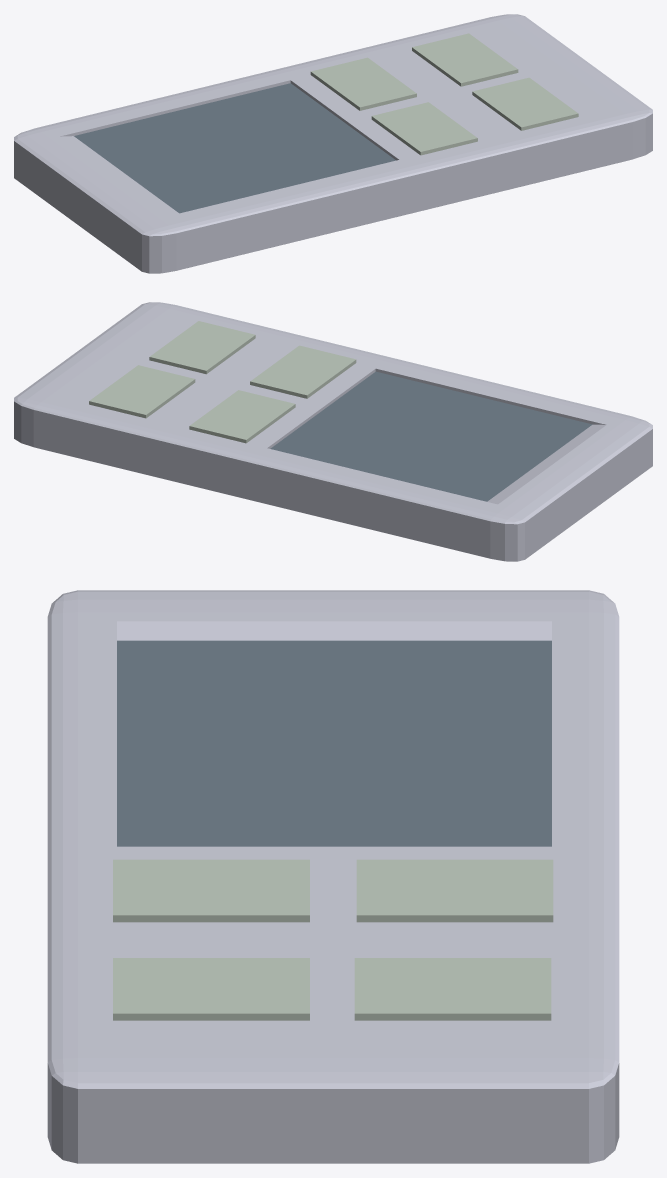
File: Rimocon.fbx
3 renders of one model, top to bottom at view 1: azimuth 30°, elevation 25°; view 2: azimuth 150°, elevation 25°; view 3: azimuth 270°, elevation 25°, orthographic. The views are drawn at different scales.
Parts seen in each view (by area): view 1: 立方体, 立方体.002, 立方体.001, 立方体.003, 立方体.004; view 2: 立方体, 立方体.002, 立方体.001, 立方体.003, 立方体.004; view 3: 立方体, 立方体.003, 立方体.002, 立方体.004, 立方体.001.
Part boxes in pixels (x1,y1,x2,y2): 立方体: (14,14,652,273); 立方体.002: (371,102,477,155); 立方体.001: (472,77,578,130); 立方体.003: (310,57,416,110); 立方体.004: (412,33,518,86); 立方体: (14,302,652,561); 立方体.002: (250,345,356,398); 立方体.001: (149,321,255,374); 立方体.003: (189,390,295,443); 立方体.004: (89,365,195,418); 立方体: (47,590,619,1163); 立方体.003: (356,859,553,922); 立方体.002: (113,859,309,922); 立方体.004: (354,958,551,1020); 立方体.001: (113,958,309,1020).
Size of the model in its own units: 3.24 by 0.2746 by 1.57.
